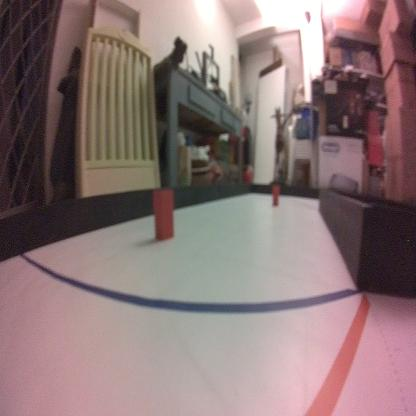red: (152, 188, 176, 242), (272, 184, 279, 208)
